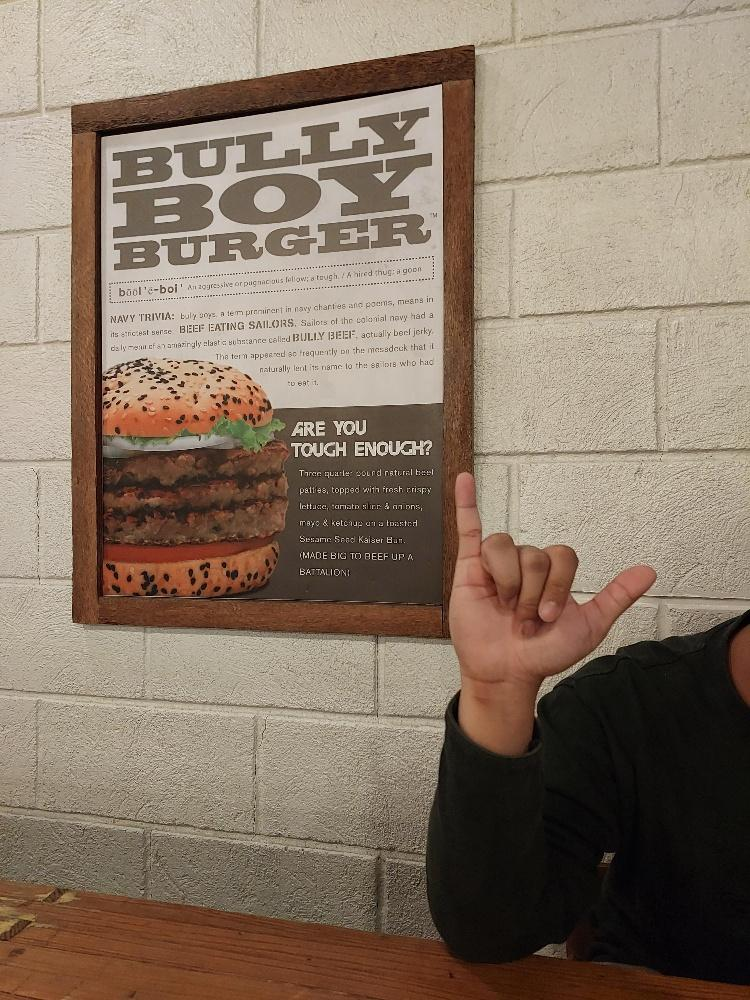y: (446, 470, 658, 687)
